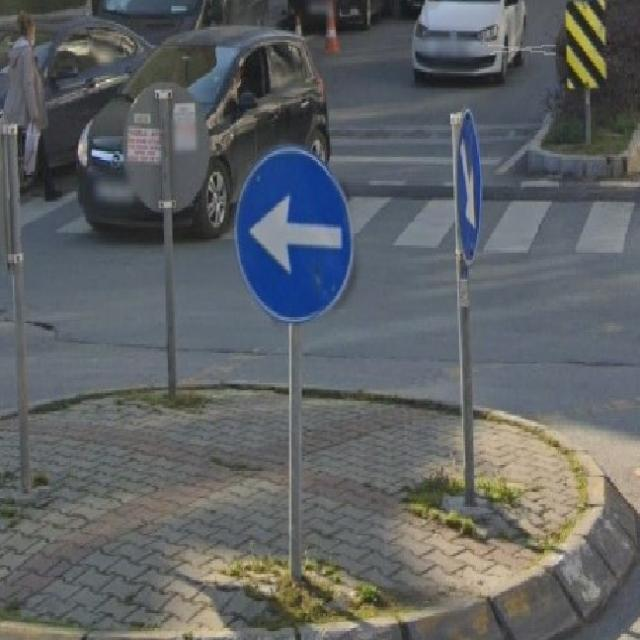Turn Left: (236, 148, 360, 323)
